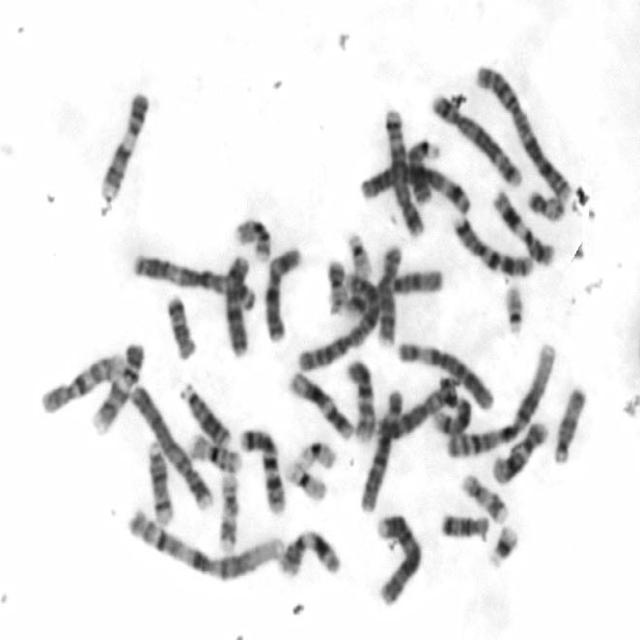A1: (442, 336, 559, 462), (122, 503, 286, 584)
A2: (473, 60, 573, 205), (293, 271, 382, 374)
A3: (127, 247, 259, 311), (356, 158, 473, 215)
B4: (126, 380, 214, 511), (372, 508, 424, 609)
B5: (428, 89, 523, 188), (383, 105, 427, 241)
C10: (36, 348, 126, 417), (342, 356, 377, 443)
C11: (489, 187, 557, 269), (276, 524, 343, 580)
C12: (286, 368, 354, 440), (488, 416, 550, 486)
C6: (394, 338, 496, 412), (356, 386, 404, 514)
C7: (449, 210, 534, 278), (236, 423, 286, 517)
C8: (372, 376, 456, 446), (376, 238, 402, 348)
C9: (96, 86, 152, 205), (87, 338, 147, 434)
D13: (178, 380, 232, 449), (405, 134, 440, 206)
D14: (143, 436, 175, 527), (432, 392, 473, 437)
D15: (549, 382, 587, 466), (388, 265, 445, 296)
E16: (184, 428, 243, 474), (231, 214, 272, 264)
E17: (458, 470, 508, 524), (214, 468, 240, 553)
E18: (162, 290, 198, 360), (436, 509, 491, 541)
F19: (282, 457, 329, 503), (293, 437, 338, 472)
F20: (322, 253, 348, 315), (525, 186, 567, 222)
G21: (486, 520, 520, 570), (344, 287, 368, 319)
G22: (500, 280, 525, 335), (346, 230, 374, 278)
X: (260, 244, 303, 342), (221, 252, 251, 358)
